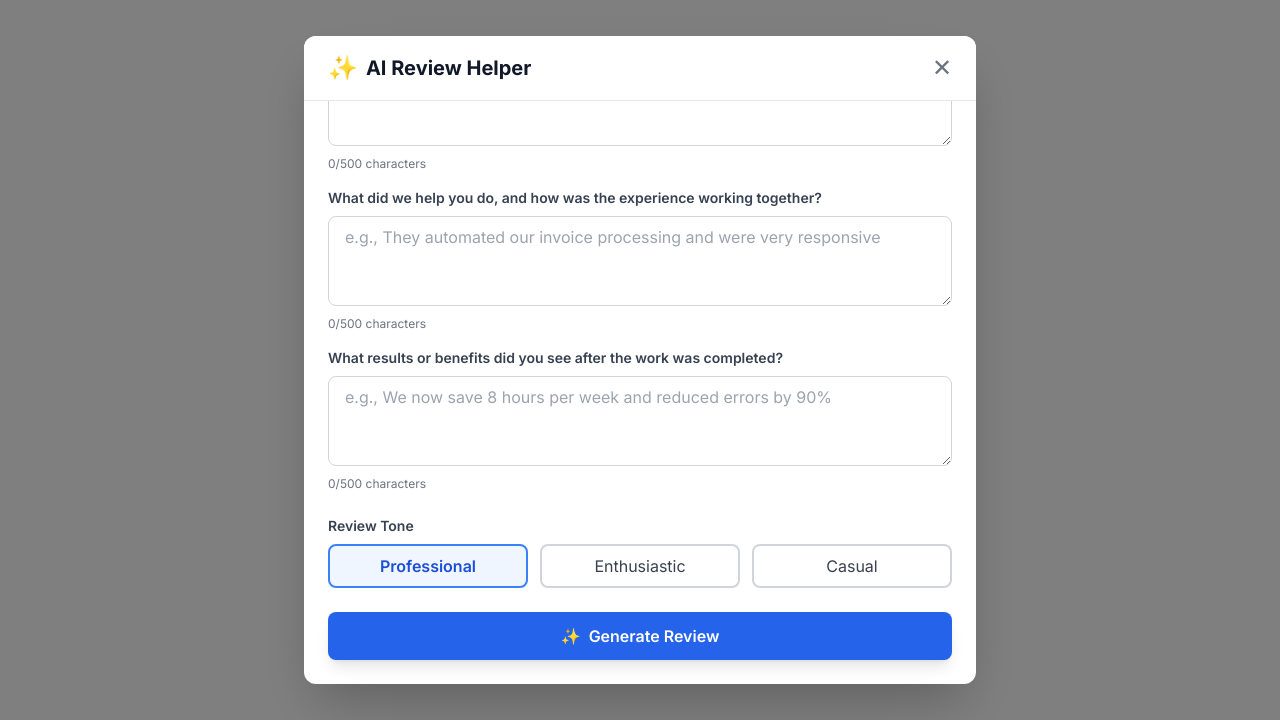
Test: AIReviewHelper › Review Generation › should change button text to Regenerate after first generation
The image size is (1280, 720).
(page scrolled)
Step 1. Click the button "✨ Generate Review" → [640, 636], box [328,612,952,660]
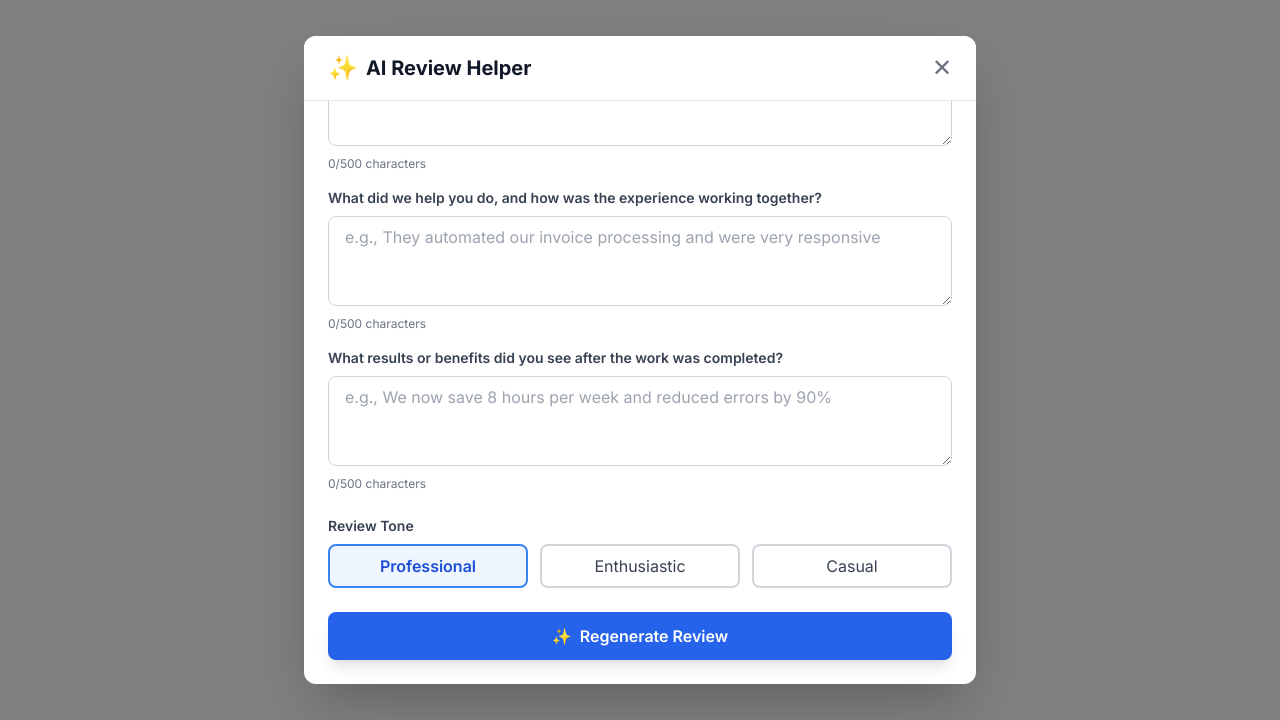
expect the button "✨ Regenerate Review" is shown: met, box [328,612,952,660]
